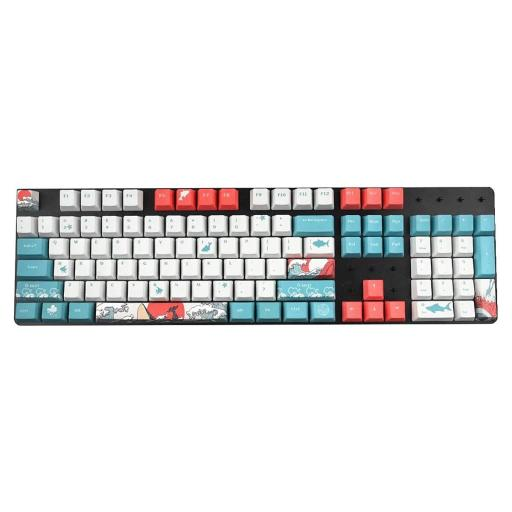KEYBOARD-2: (12, 177, 506, 336)
